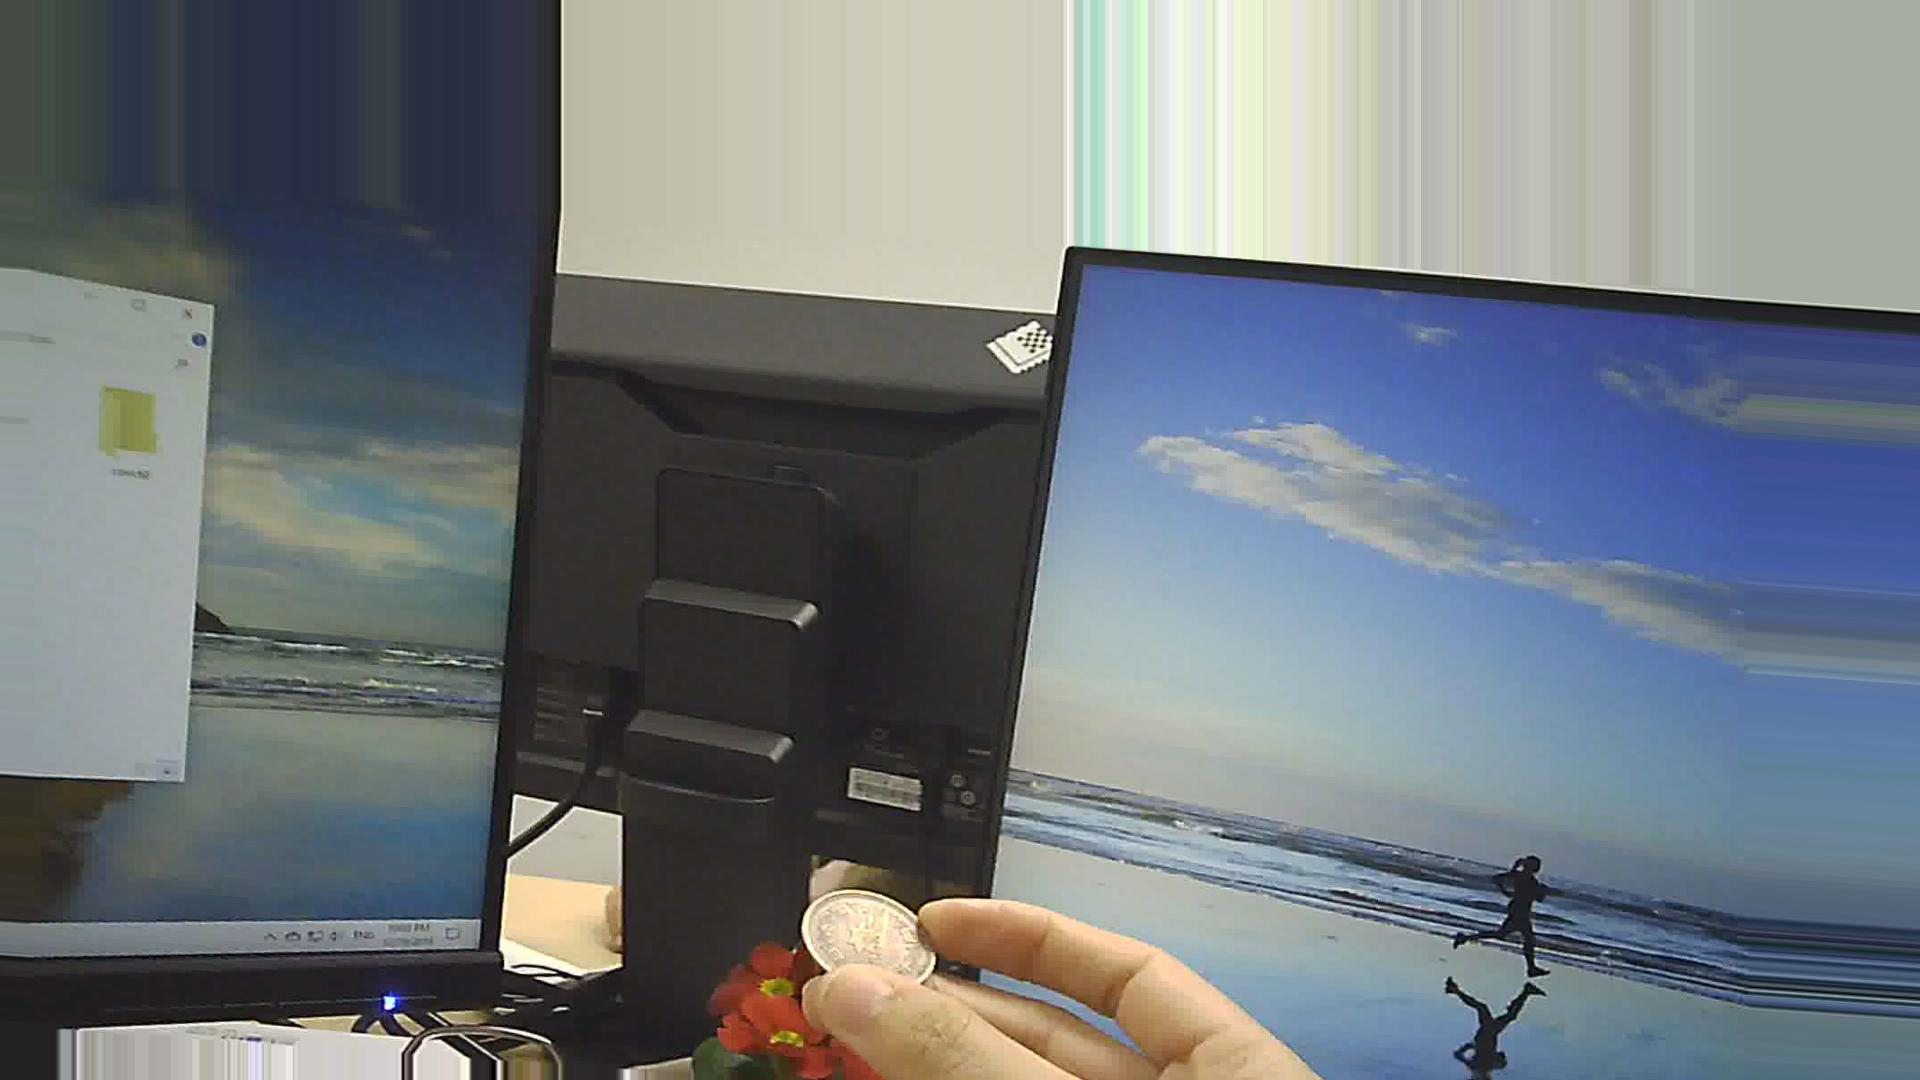10 Yen: (796, 881, 942, 992)
